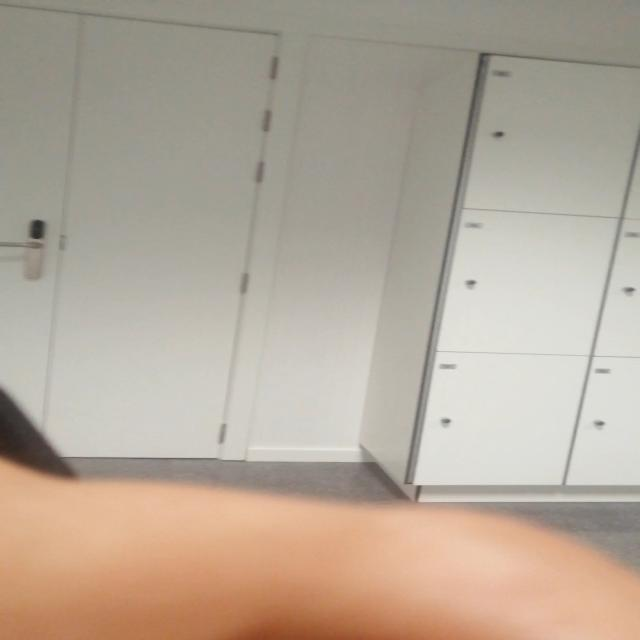door_handle: (0, 239, 46, 254)
